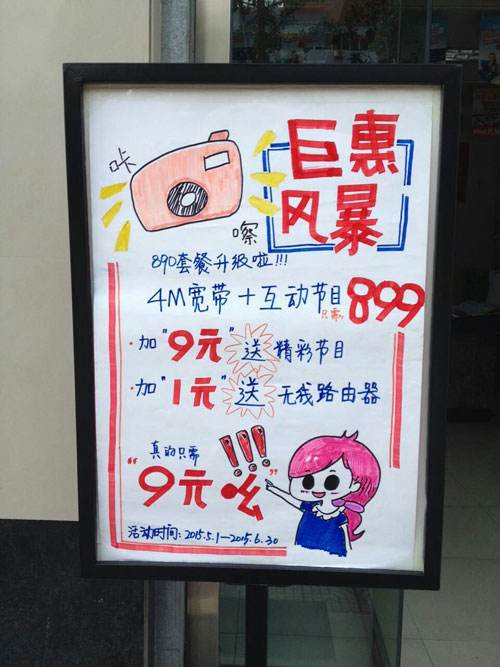bill: (61, 64, 442, 591)
